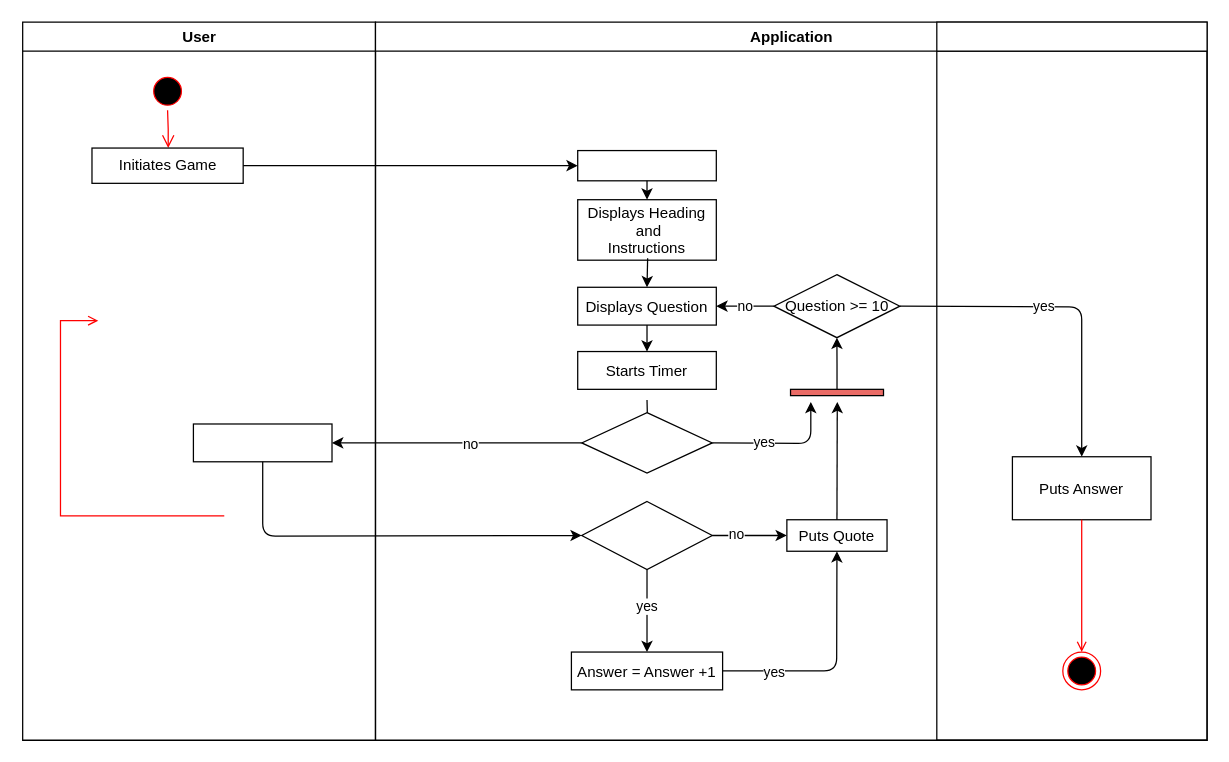
The diagram is 1229 pixels wide and 762 high, and some of its shapes have lost their labels. Here are the shapes that lost their labels. From the top down, the box of each, then its label:
(576, 149, 716, 181): Plays Music
(936, 21, 1207, 740): End Process
(192, 423, 332, 462): User Input
(580, 411, 712, 473): Timer >= 20s
(580, 500, 712, 570): Input = Answer
